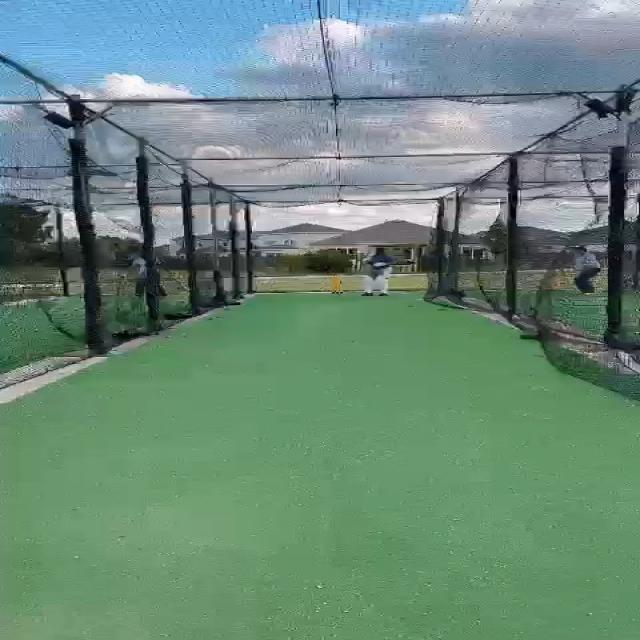batsman: (350, 246, 399, 297)
